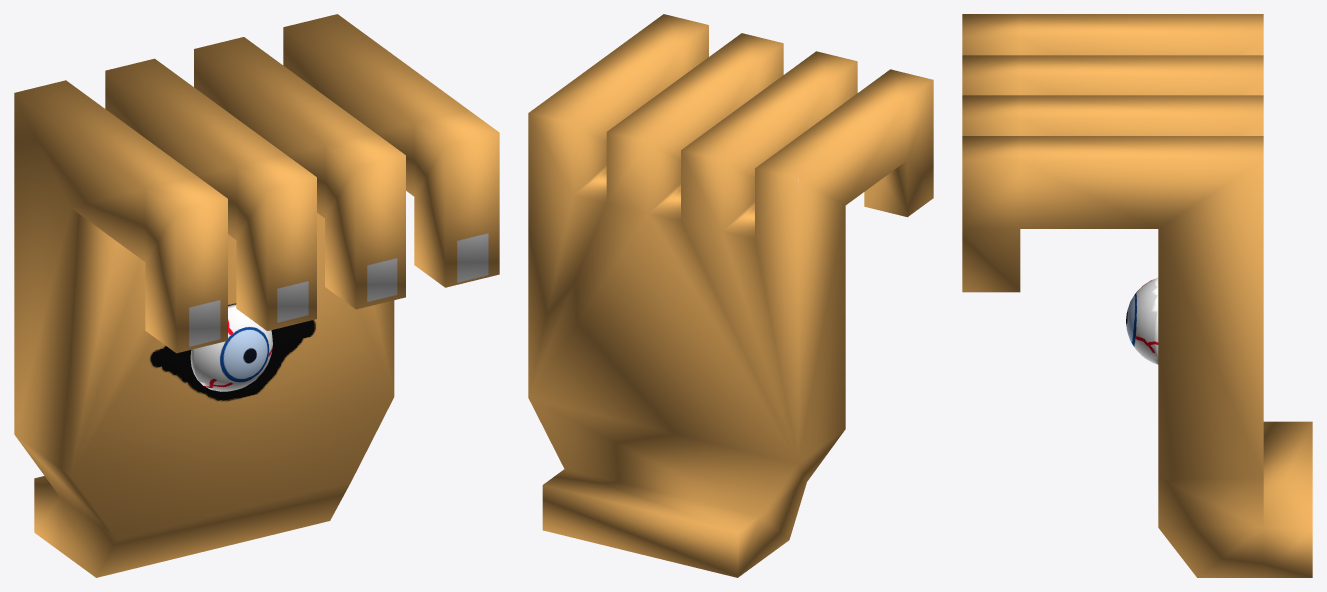
The model's file is enemyOpposition.obj.
3 renders of one model, left to right at view 1: azimuth 30°, elevation 25°; view 2: azimuth 150°, elevation 25°; view 3: azimuth 270°, elevation 25°, orthographic. The views are drawn at different scales.
Visible parts, largest first — view 1: 球.001; view 2: 球.001; view 3: 球.001.
Boxes of the visible parts, x1,y1,x2,y2 form: 球.001: [14, 14, 499, 577]; 球.001: [528, 14, 933, 577]; 球.001: [962, 14, 1312, 577].
Size of the model in its own units: 12.42 by 17.27 by 12.54.
